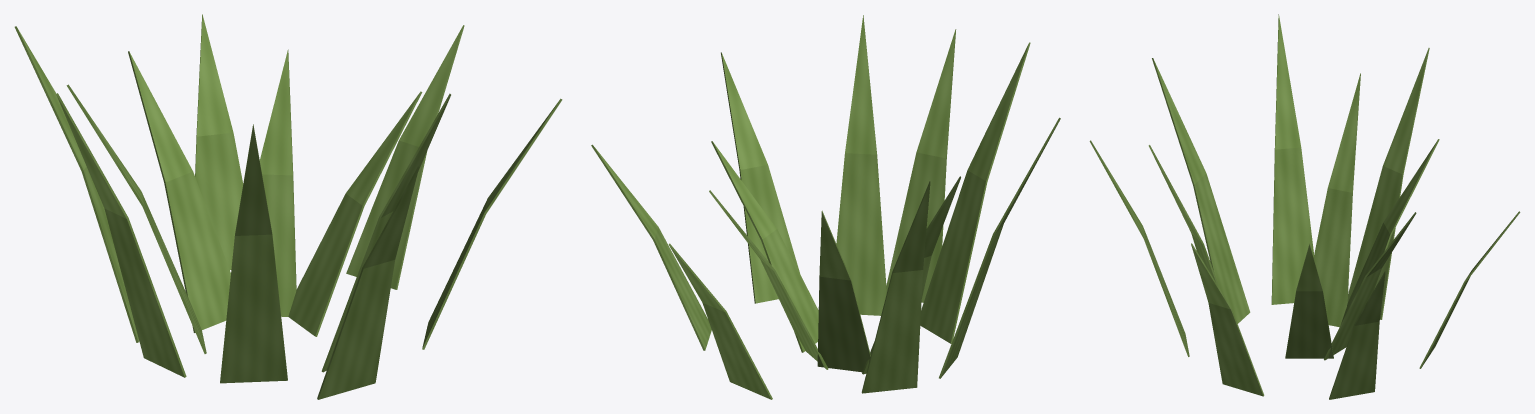
The model's file is Furn_GrassTuft.fbx.
The picture shows the model from 3 angles, left to right: view 1: azimuth 30°, elevation 25°; view 2: azimuth 150°, elevation 25°; view 3: azimuth 270°, elevation 25°; orthographic projection. The views are drawn at different scales.
Parts seen in each view (by area): view 1: Furn_GrassTuft_Mesh; view 2: Furn_GrassTuft_Mesh; view 3: Furn_GrassTuft_Mesh.
Boxes of the visible parts, x1,y1,x2,y2 form: Furn_GrassTuft_Mesh: (14, 14, 562, 399); Furn_GrassTuft_Mesh: (591, 15, 1060, 399); Furn_GrassTuft_Mesh: (1089, 14, 1520, 399).
Size of the model in its own units: 0.8 by 0.5 by 0.8.
1 material, 1 textured.
